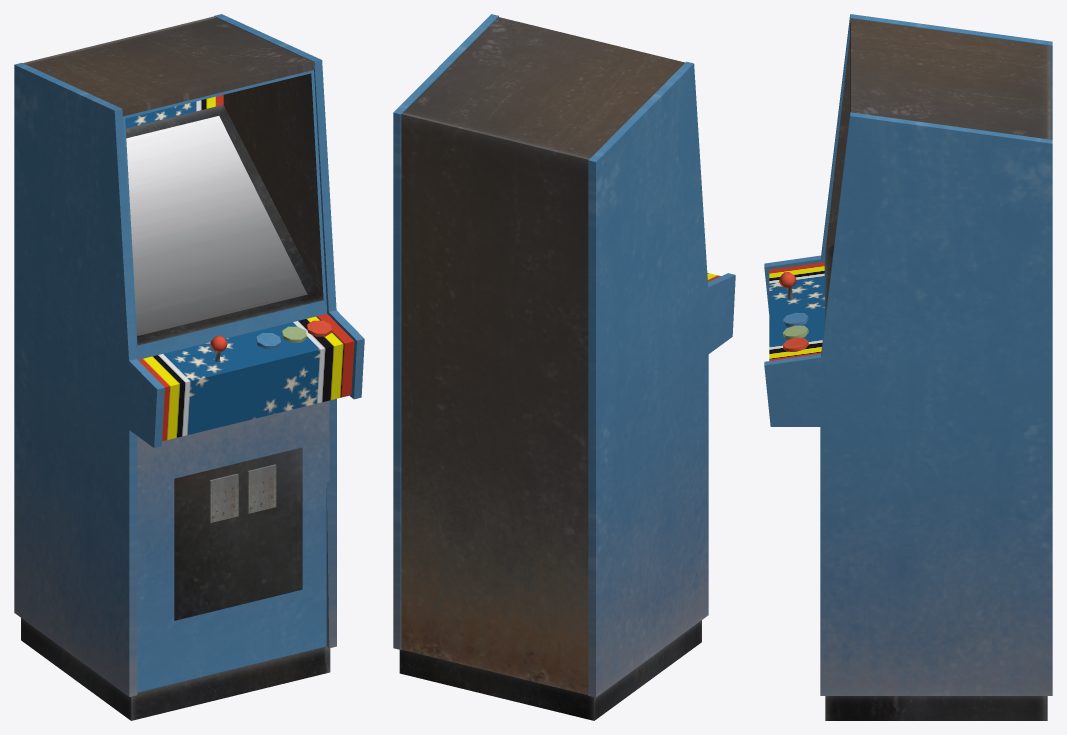
Rendered from arcadegame01a.fbx.
3 views of the same model, side by side, from view 1: azimuth 30°, elevation 25°; view 2: azimuth 150°, elevation 25°; view 3: azimuth 270°, elevation 25° (orthographic). The views are drawn at different scales.
Parts seen in each view (by area): view 1: arcadegame01a; view 2: arcadegame01a; view 3: arcadegame01a.
Part boxes in pixels (x1=…): arcadegame01a: x1=14, y1=14, x2=364, y2=720; arcadegame01a: x1=393, y1=14, x2=735, y2=720; arcadegame01a: x1=764, y1=14, x2=1052, y2=720.
Bounding box in the file's own units: 59.01 × 164 × 70.46.
